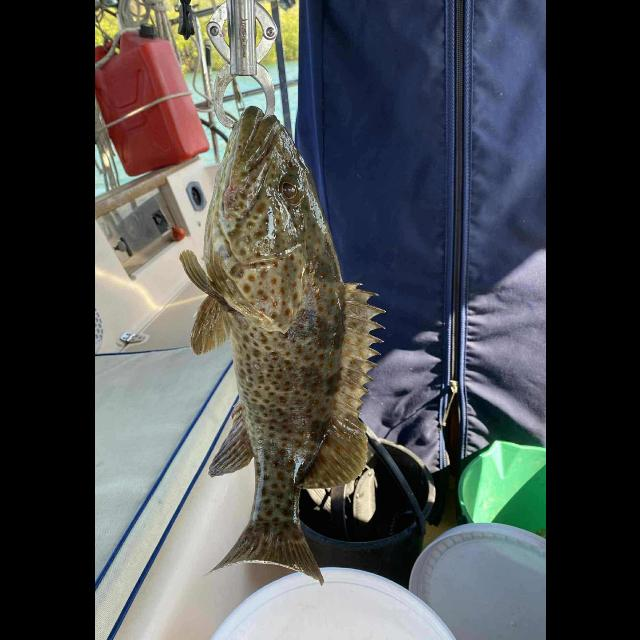Groupers: (181, 106, 385, 586)
